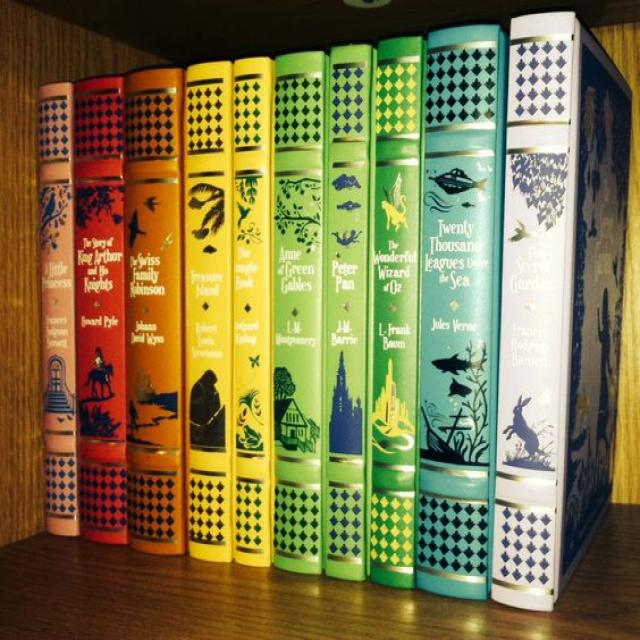book: (491, 12, 576, 614), (416, 26, 499, 599), (364, 37, 420, 590), (272, 52, 322, 575), (126, 67, 179, 556), (323, 44, 371, 580), (184, 63, 234, 562), (74, 77, 125, 544), (231, 56, 270, 567), (37, 81, 78, 535)
